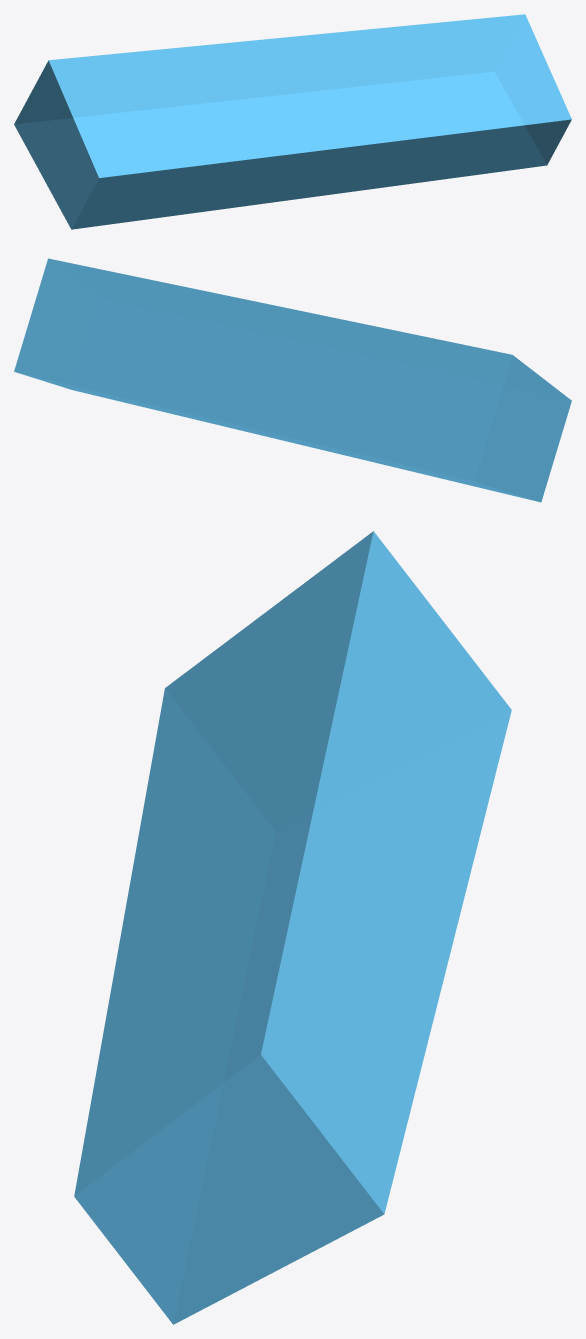
Rendered from Event_421364160_HErechit_9.fbx.
3 renders of one model, top to bottom at view 1: azimuth 30°, elevation 25°; view 2: azimuth 150°, elevation 25°; view 3: azimuth 270°, elevation 25°, orthographic. The views are drawn at different scales.
Parts seen in each view (by area): view 1: Model; view 2: Model; view 3: Model.
Part boxes in pixels (x1,y1,x2,y2): Model: (14,14,571,229); Model: (14,258,571,502); Model: (74,531,511,1324).
Bounding box in the file's own units: 1.22 × 0.4593 × 0.5117.
